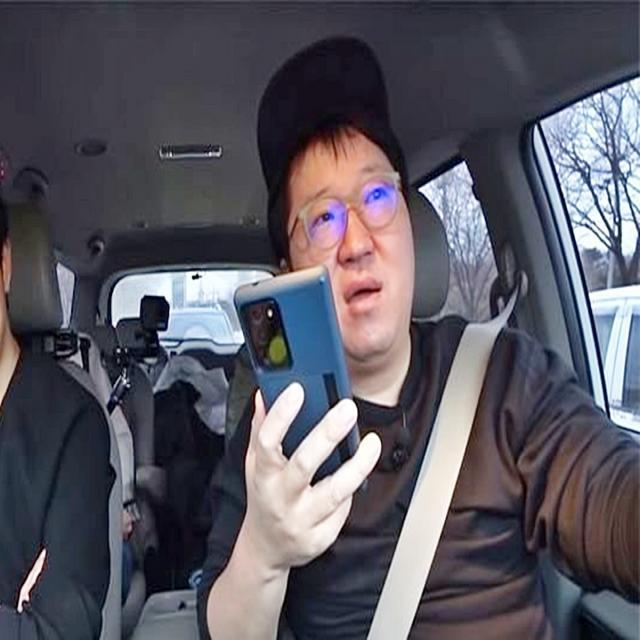Phone: (232, 267, 371, 502)
